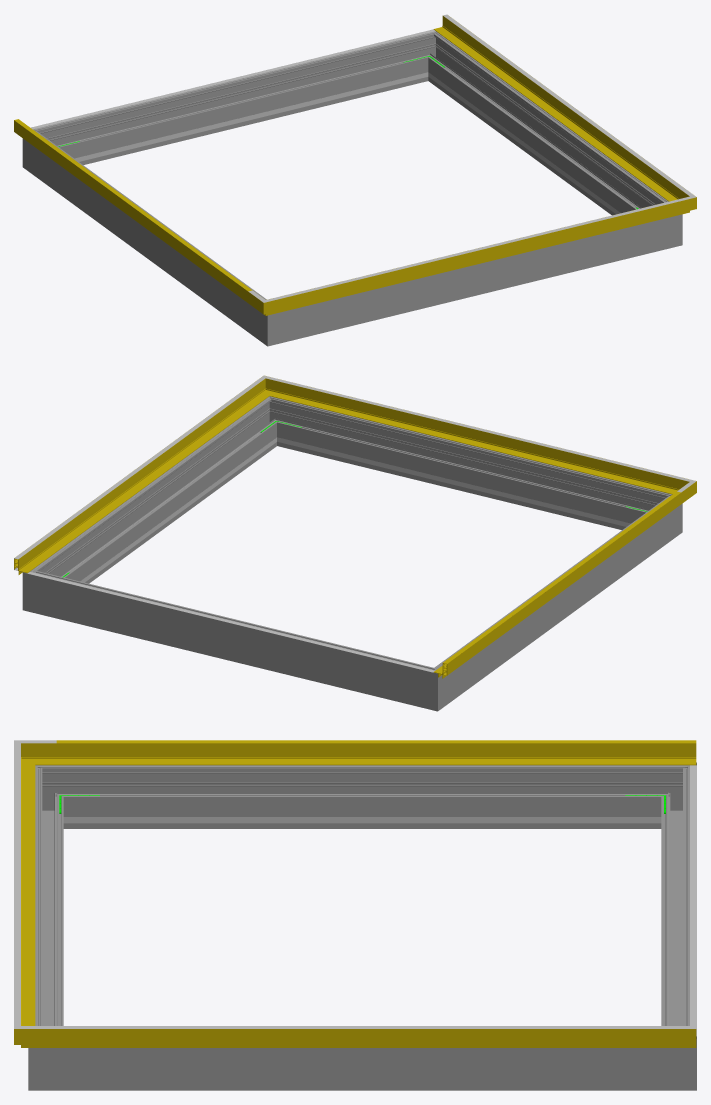
The picture shows the model from 3 angles, top to bottom: view 1: azimuth 30°, elevation 25°; view 2: azimuth 150°, elevation 25°; view 3: azimuth 270°, elevation 25°; orthographic projection. The views are drawn at different scales.
Parts seen in each view (by area): view 1: 3DGeom-276, 3DGeom-298, 3DGeom-297, 3DGeom-268, 3DGeom-56, 3DGeom-58, 3DGeom-50, 3DGeom-244, 3DGeom-270, 3DGeom-220, 3DGeom-66, 3DGeom-71 (+6 smaller); view 2: 3DGeom-298, 3DGeom-276, 3DGeom-297, 3DGeom-268, 3DGeom-56, 3DGeom-58, 3DGeom-50, 3DGeom-278, 3DGeom-239, 3DGeom-220, 3DGeom-284, 3DGeom-66 (+6 smaller); view 3: 3DGeom-268, 3DGeom-297, 3DGeom-50, 3DGeom-58, 3DGeom-298, 3DGeom-276, 3DGeom-56, 3DGeom-232, 3DGeom-71, 3DGeom-64, 3DGeom-284, 3DGeom-290 (+6 smaller).
Part boxes in pixels (x1,y1,x2,y2): 3DGeom-276: (52,36,423,164); 3DGeom-298: (294,221,655,339); 3DGeom-297: (431,41,662,215); 3DGeom-268: (38,139,260,334); 3DGeom-56: (288,204,669,310); 3DGeom-58: (433,16,676,200); 3DGeom-50: (14,120,248,302); 3DGeom-244: (84,78,402,160); 3DGeom-270: (252,295,294,346); 3DGeom-220: (31,29,435,129); 3DGeom-66: (288,202,669,296); 3DGeom-71: (14,119,252,291); 3DGeom-298: (281,402,652,529); 3DGeom-276: (49,575,415,704); 3DGeom-297: (43,406,274,583); 3DGeom-268: (445,504,666,699); 3DGeom-56: (283,384,667,491); 3DGeom-58: (14,388,261,574); 3DGeom-50: (433,493,681,678); 3DGeom-278: (410,660,453,711); 3DGeom-239: (303,443,620,525); 3DGeom-220: (27,572,434,672); 3DGeom-284: (22,562,54,616); 3DGeom-66: (289,382,669,476); 3DGeom-268: (71,765,654,828); 3DGeom-297: (71,1048,654,1090); 3DGeom-50: (56,743,696,765); 3DGeom-58: (56,1029,696,1047); 3DGeom-298: (35,780,63,1025); 3DGeom-276: (661,780,689,1025); 3DGeom-56: (21,772,35,1025); 3DGeom-232: (105,817,620,822); 3DGeom-71: (56,740,696,743); 3DGeom-64: (56,1026,696,1028); 3DGeom-284: (654,1021,696,1090); 3DGeom-290: (28,1021,70,1090).
Size of the model in its own units: 2.44 by 0.2669 by 2.44.
